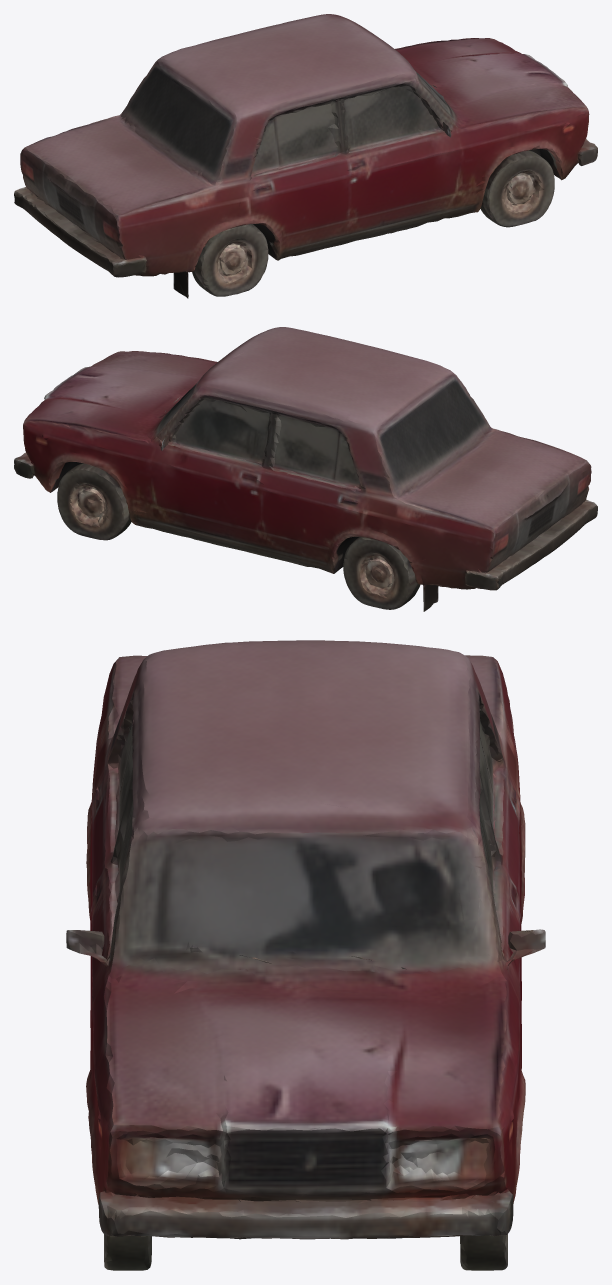
The model's file is car_zhiguli.glb.
3 renders of one model, top to bottom at view 1: azimuth 30°, elevation 25°; view 2: azimuth 150°, elevation 25°; view 3: azimuth 270°, elevation 25°, orthographic. The views are drawn at different scales.
Parts seen in each view (by area): view 1: car_zhiguli; view 2: car_zhiguli; view 3: car_zhiguli.
Part boxes in pixels (left/top/right/bottom): car_zhiguli: left=14, top=14, right=597, bottom=298; car_zhiguli: left=14, top=327, right=597, bottom=611; car_zhiguli: left=66, top=640, right=545, bottom=1270.
Bounding box in the file's own units: 4.1 × 1.42 × 1.74.
1 material, 1 textured.
